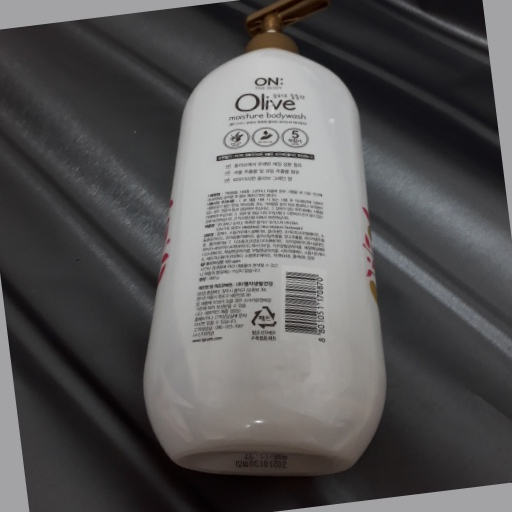Plastic_3: (140, 1, 389, 478)
